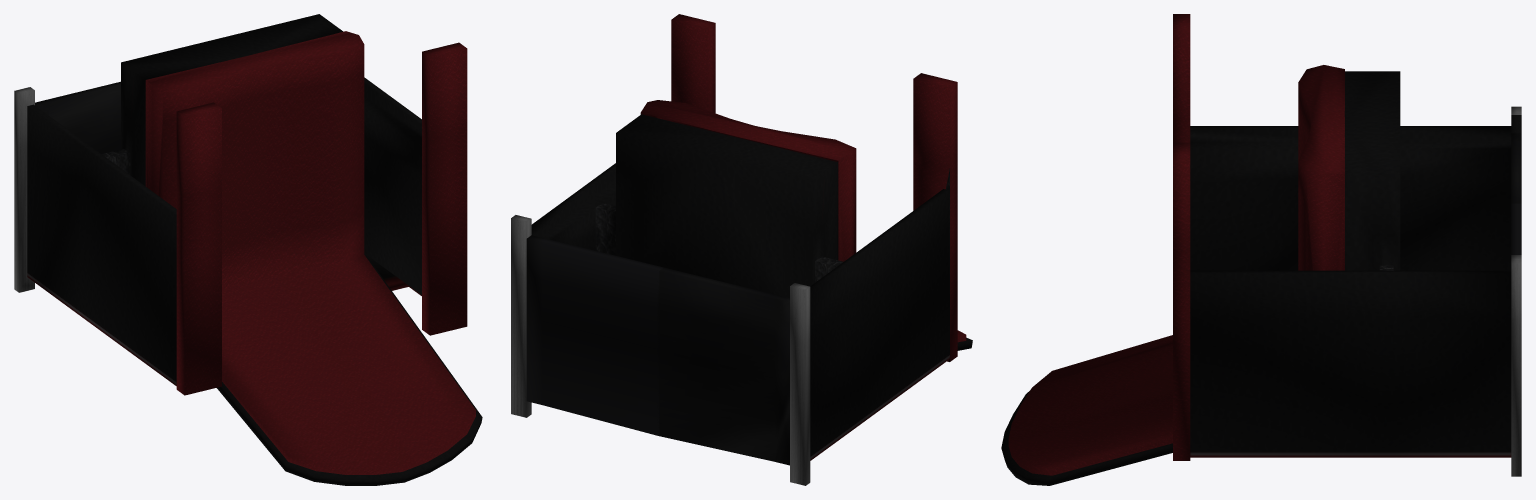
File: chair2.obj
The picture shows the model from 3 angles, left to right: view 1: azimuth 30°, elevation 25°; view 2: azimuth 150°, elevation 25°; view 3: azimuth 270°, elevation 25°; orthographic projection. The views are drawn at different scales.
Visible parts, largest first — view 1: Cube_Cube.001; view 2: Cube_Cube.001; view 3: Cube_Cube.001.
Part boxes in pixels (left/top/right/bottom): Cube_Cube.001: left=14, top=14, right=482, bottom=485; Cube_Cube.001: left=511, top=14, right=972, bottom=485; Cube_Cube.001: left=1001, top=14, right=1521, bottom=485.
Bounding box in the file's own units: 8.35 × 9.14 × 11.72.
